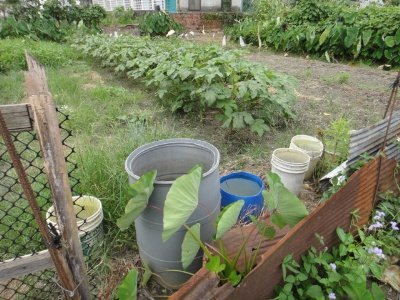bucket: (119, 134, 224, 289), (46, 194, 106, 263), (218, 171, 267, 223), (272, 147, 311, 198)
